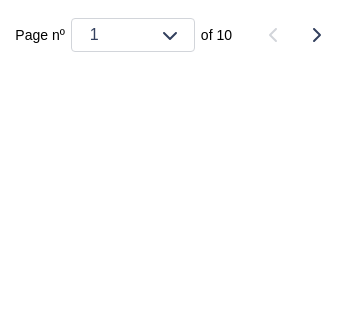
Scenario: TablePaginationFooter › page selector › shows options to change page
Click the dropdown.
click(133, 35)  # box [71,18,195,52]
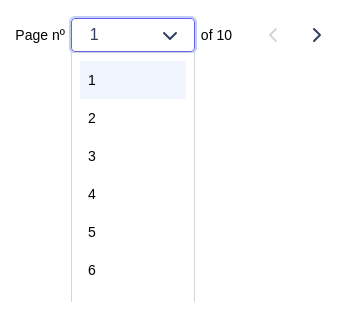
expect the text "1" is shown: met, box [88,72,96,88]
expect the text "2" is shown: met, box [88,110,96,126]
expect the text "3" is shown: met, box [88,148,96,164]
